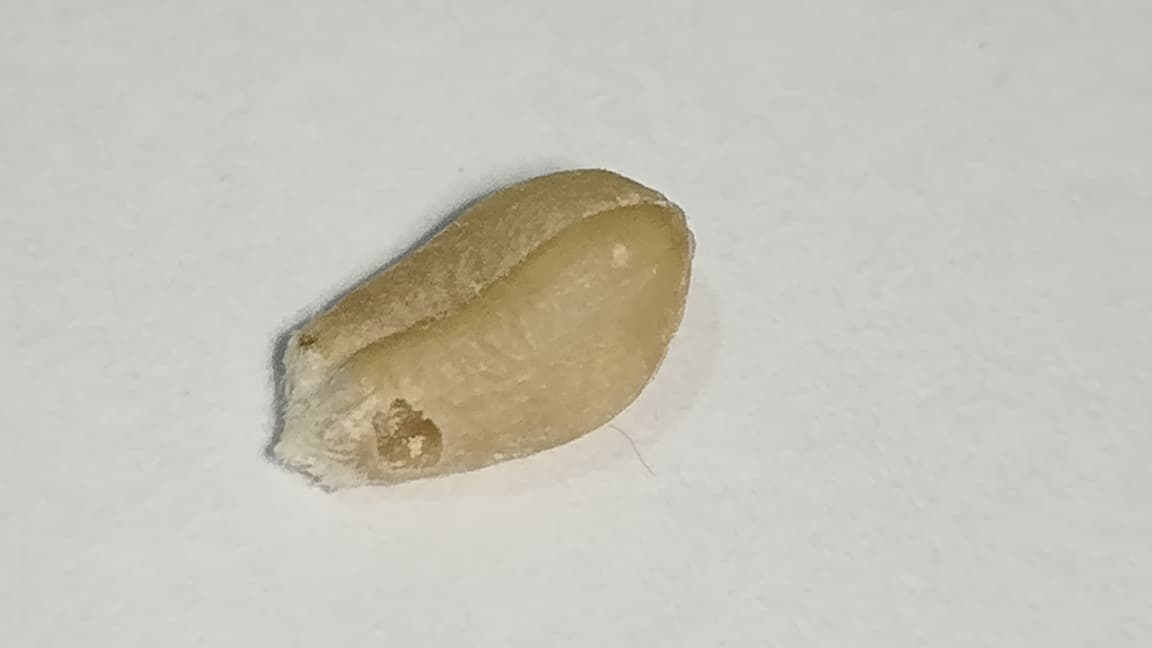damage: (263, 164, 694, 488)
insectdamage: (356, 385, 444, 474)
